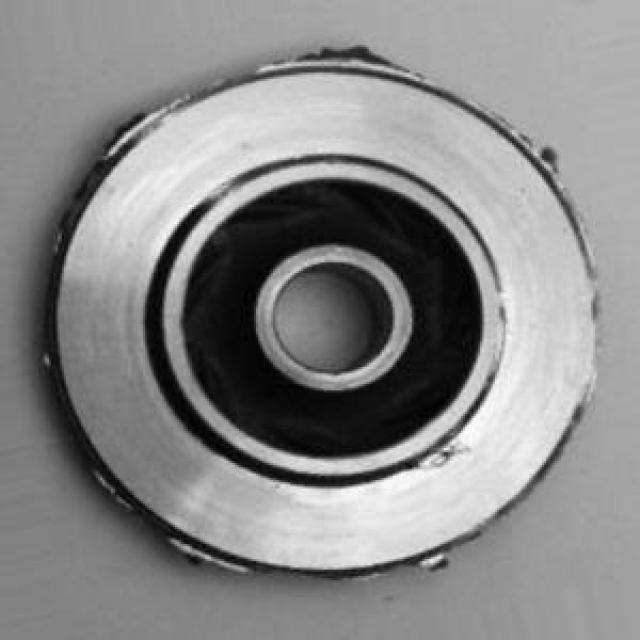Defect: (294, 32, 395, 82)
